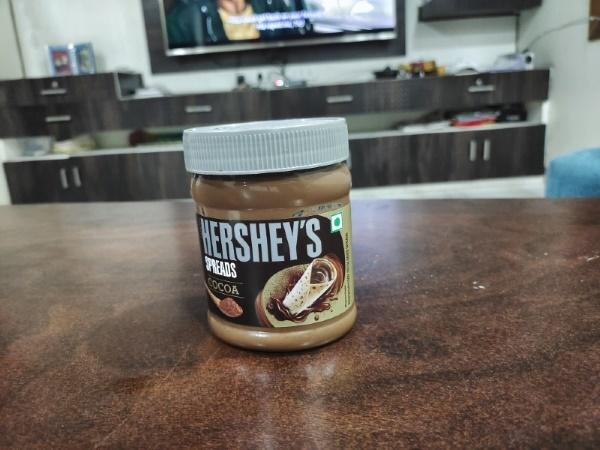Hershey-s: (172, 115, 385, 353)
